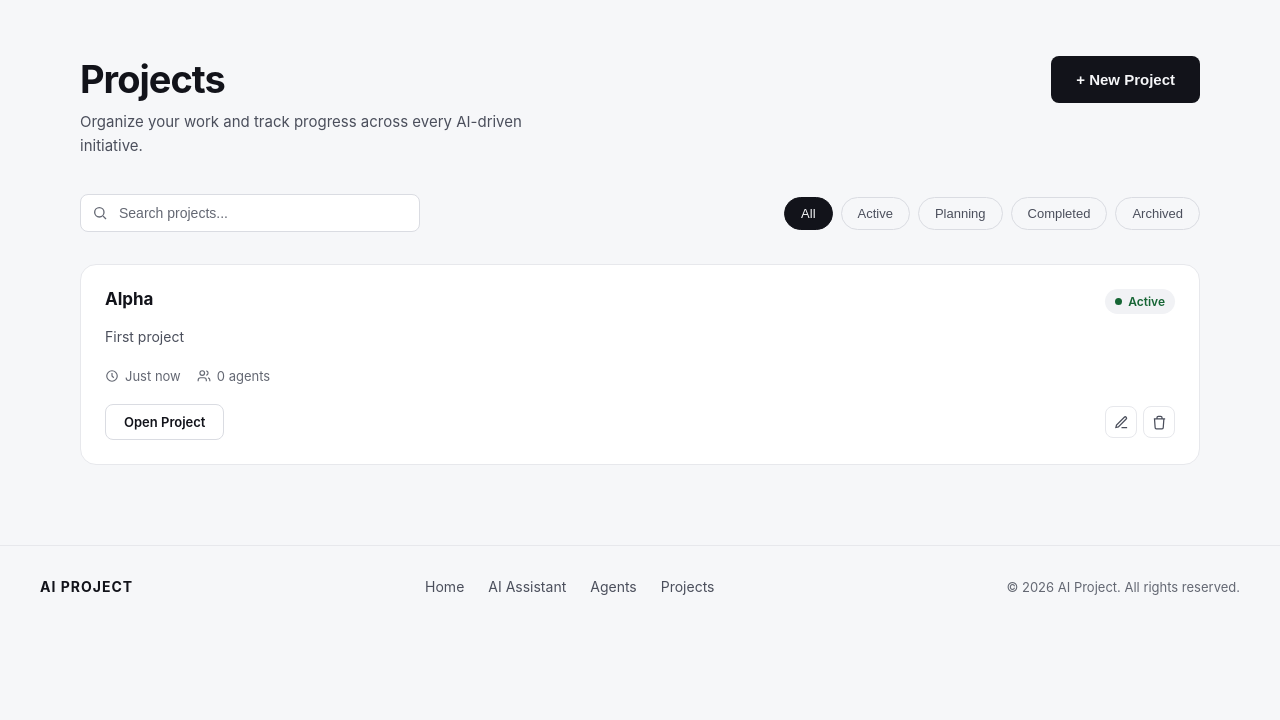
Test case: Projects — mutations › deletes a project and removes it from the cached list
The width and height of the screenshot is (1280, 720).
Expected: the heading "Alpha" is shown, left=105, top=289, right=154, bottom=309
Click the button named "Delete Alpha" at (1159, 422), box left=1143, top=406, right=1175, bottom=438
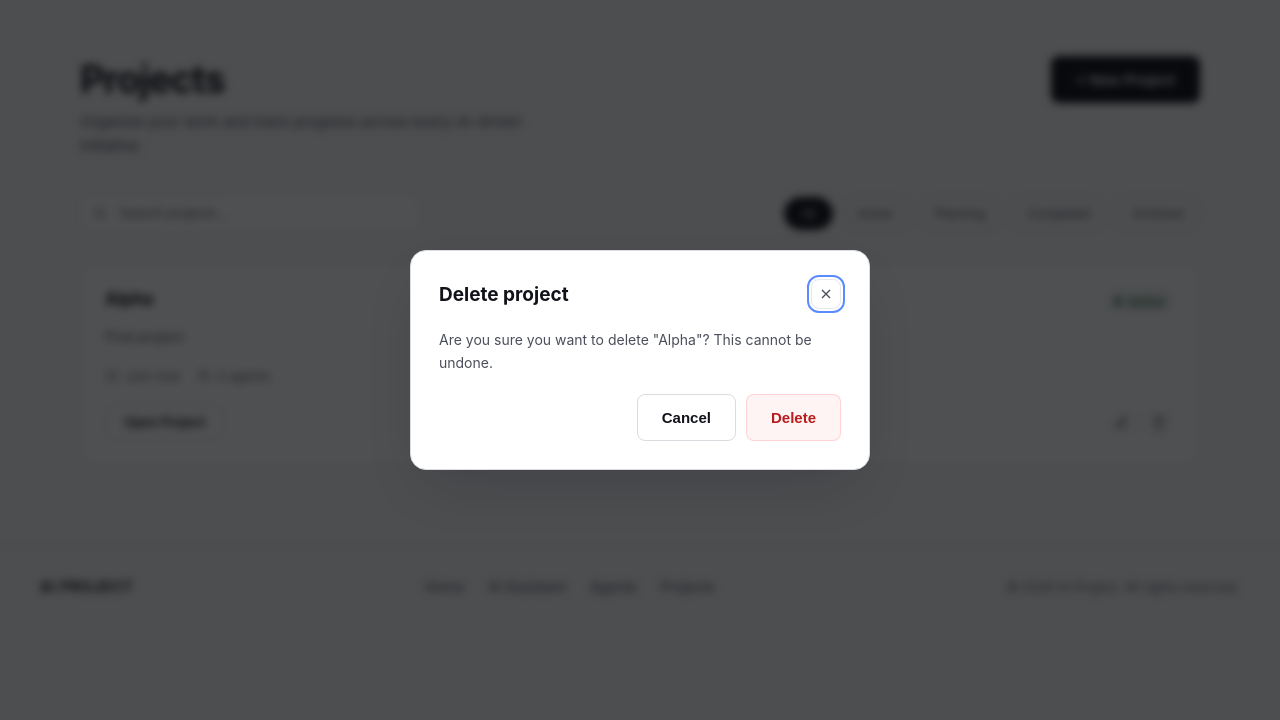
Now the heading "Delete project" is shown, box left=439, top=283, right=569, bottom=306
Click the button "Delete" at (794, 417), box left=746, top=394, right=841, bottom=441
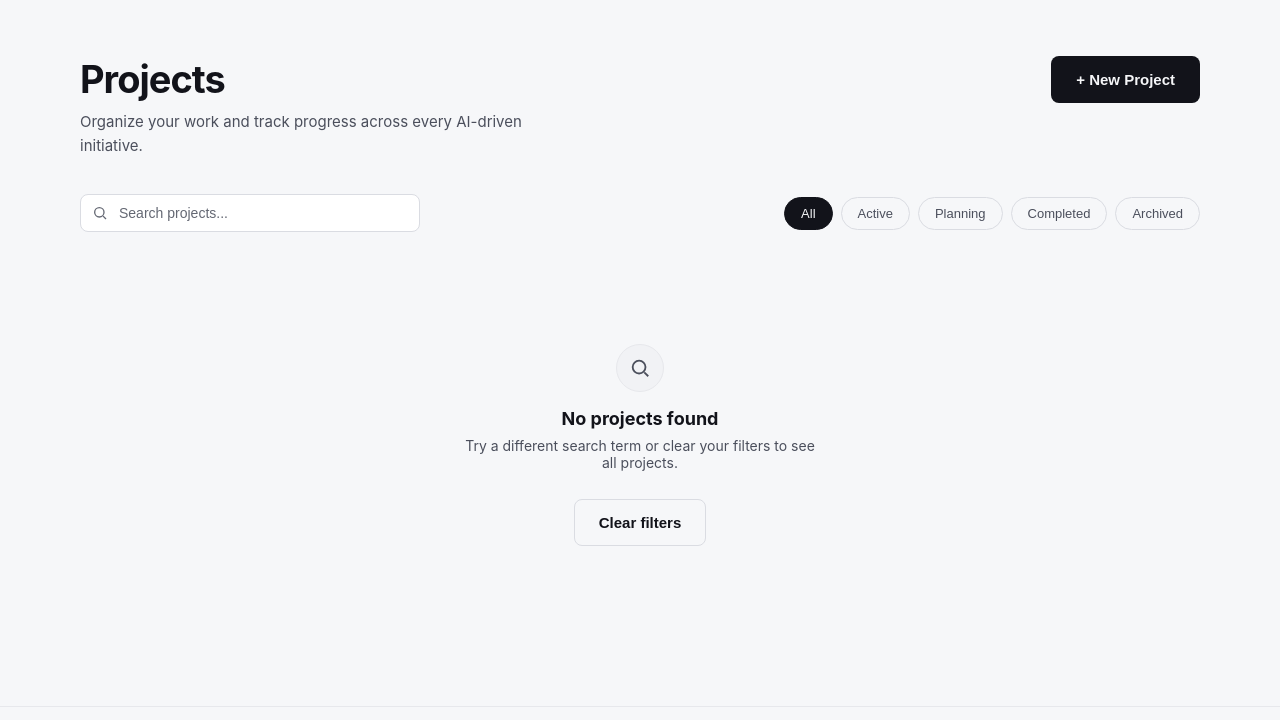
Now the heading "Alpha" is gone
Now the heading "No projects found" is shown, box left=562, top=408, right=718, bottom=429
